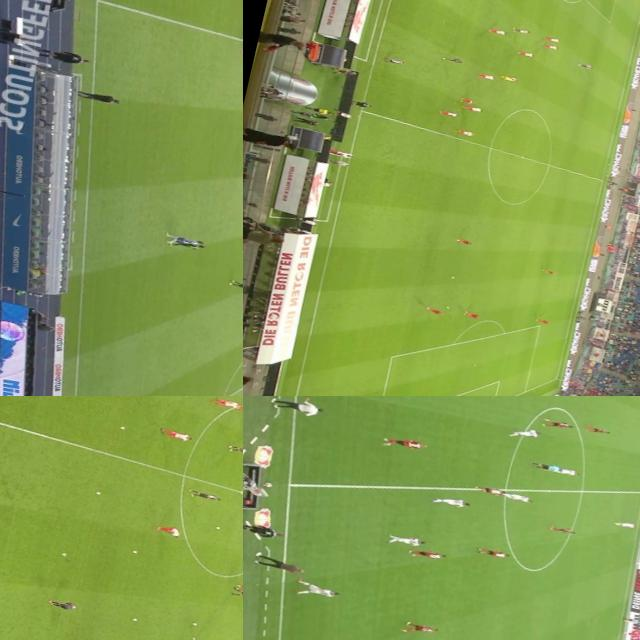ball: (58, 549, 69, 556), (128, 548, 140, 554), (448, 274, 458, 280), (131, 616, 141, 622), (213, 523, 223, 528), (118, 424, 125, 430), (94, 489, 102, 494), (444, 304, 451, 308), (192, 621, 198, 625)
player: (384, 432, 428, 452), (298, 580, 345, 598), (430, 492, 471, 509), (389, 531, 426, 549), (506, 422, 542, 440), (476, 545, 512, 561), (159, 424, 194, 440), (408, 546, 447, 560), (406, 618, 440, 634), (538, 416, 576, 430), (186, 486, 221, 500), (47, 594, 78, 609), (155, 522, 183, 538), (168, 235, 202, 248), (474, 484, 507, 497), (504, 490, 534, 504), (210, 396, 241, 409), (174, 238, 207, 250), (459, 102, 486, 116), (585, 424, 614, 436), (554, 465, 583, 477), (452, 125, 477, 138), (612, 518, 638, 530), (550, 523, 576, 535), (438, 106, 462, 118), (444, 54, 466, 66), (382, 55, 408, 65), (407, 634, 448, 640), (486, 25, 508, 36), (532, 316, 554, 327), (424, 306, 447, 316), (464, 308, 483, 320), (228, 277, 243, 291), (227, 442, 243, 455), (512, 26, 534, 35), (539, 41, 561, 50), (543, 34, 562, 44), (500, 74, 522, 82), (190, 635, 223, 640), (518, 49, 536, 58), (540, 265, 556, 275), (460, 96, 477, 104), (475, 70, 492, 78), (457, 237, 473, 244), (576, 62, 594, 68), (236, 402, 243, 415)
